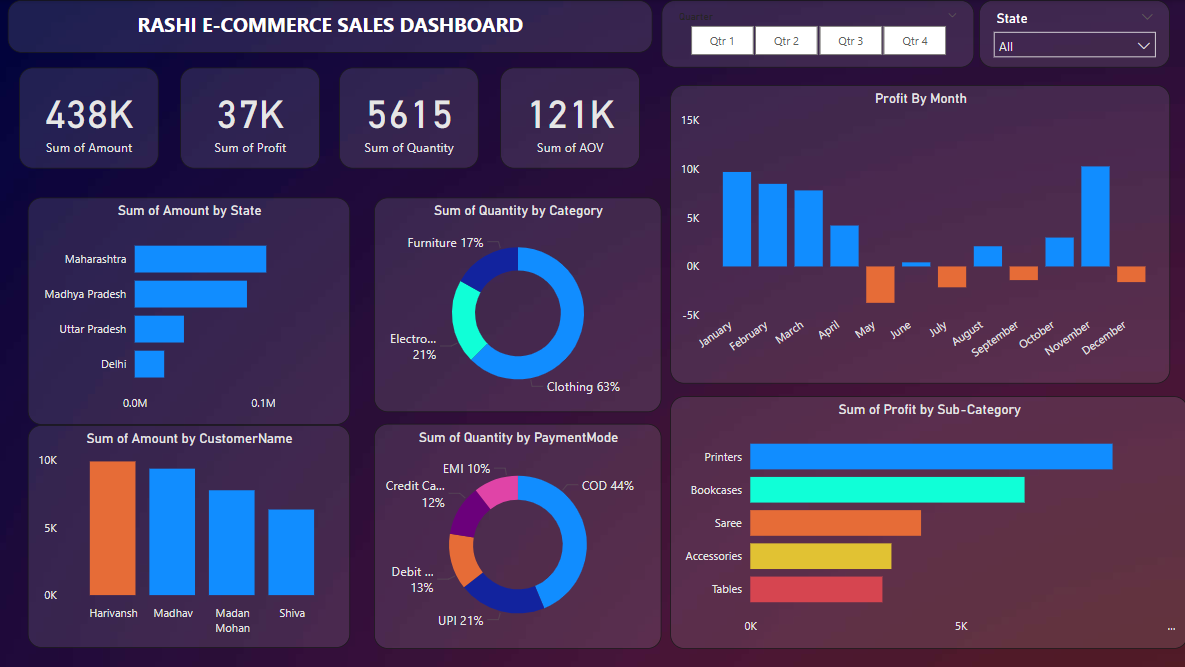

This screenshot's page, from the dashboard's own definition file:
{"tool":"powerbi","page":{"name":"Page 1","canvas":[1280,720],"ordinal":0},"visuals":[{"type":"textbox","box":[9.4,0,694.7,56.5],"z":0},{"type":"columnChart","title":"Profit By Month","fields":{"Category":["Orders.Order Date.Variation.Date Hierarchy.Month"],"Y":["Details.Profit"]},"box":[722.9,91.5,538.5,321.8],"z":1000},{"type":"barChart","fields":{"Category":["Details.Sub-Category"],"Y":["Details.Profit"]},"box":[722.9,426.8,557.3,271.9],"z":2000},{"type":"donutChart","fields":{"Category":["Details.Category"],"Y":["Details.Quantity"]},"box":[403.9,212.7,309.6,231.6],"z":3000},{"type":"donutChart","fields":{"Y":["Details.Quantity"],"Category":["Details.PaymentMode"]},"box":[403.9,456.4,309.6,242.3],"z":4000},{"type":"card","fields":{"Values":["Details.Amount"]},"box":[21.5,72.7,150.8,109],"z":5000},{"type":"card","fields":{"Values":["Details.Quantity"]},"box":[366.2,72.7,150.8,109],"z":6000},{"type":"card","fields":{"Values":["Details.Profit"]},"box":[195.2,72.7,150.8,109],"z":7000},{"type":"card","fields":{"Values":["Details.AOV"]},"box":[539.8,72.7,150.8,109],"z":8000},{"type":"barChart","fields":{"Category":["Orders.State"],"Y":["Details.Amount"]},"box":[31,212.7,347.3,245],"z":9000},{"type":"columnChart","fields":{"Category":["Orders.CustomerName"],"Y":["Details.Amount"]},"box":[31,458,347,240],"z":10000},{"type":"slicer","fields":{"Values":["Orders.Order Date.Variation.Date Hierarchy.Quarter"]},"box":[713.5,0,336.6,72.7],"z":11000},{"type":"slicer","fields":{"Values":["Orders.State"]},"box":[1055.5,0,206,72.7],"z":12000}]}

Visuals, with their boxes in screenshot pixels (x1, y1, x2, y2), scaled from the page's 1280x720 canvas onto the 1185x667 screenshot:
textbox: x1=9 y1=0 x2=652 y2=52
"Profit By Month" columnChart: x1=669 y1=85 x2=1168 y2=383
barChart - Details.Sub-Category x Details.Profit: x1=669 y1=395 x2=1184 y2=647
donutChart - Details.Category x Details.Quantity: x1=374 y1=197 x2=661 y2=412
donutChart - Details.Quantity x Details.PaymentMode: x1=374 y1=423 x2=661 y2=647
card - Details.Amount: x1=20 y1=67 x2=160 y2=168
card - Details.Quantity: x1=339 y1=67 x2=479 y2=168
card - Details.Profit: x1=181 y1=67 x2=320 y2=168
card - Details.AOV: x1=500 y1=67 x2=639 y2=168
barChart - Orders.State x Details.Amount: x1=29 y1=197 x2=350 y2=424
columnChart - Orders.CustomerName x Details.Amount: x1=29 y1=424 x2=350 y2=647
slicer - Orders.Order Date.Variation.Date Hierarchy.Quarter: x1=661 y1=0 x2=972 y2=67
slicer - Orders.State: x1=977 y1=0 x2=1168 y2=67
